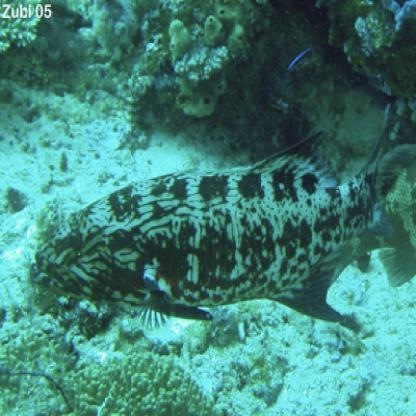Bio: (26, 97, 398, 326)
